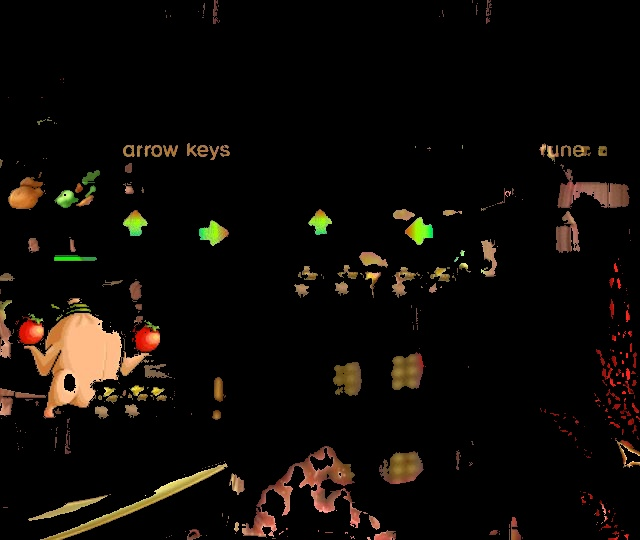left: (401, 214, 439, 247)
right: (193, 217, 235, 250)
up: (303, 207, 336, 240), (119, 207, 153, 239)
